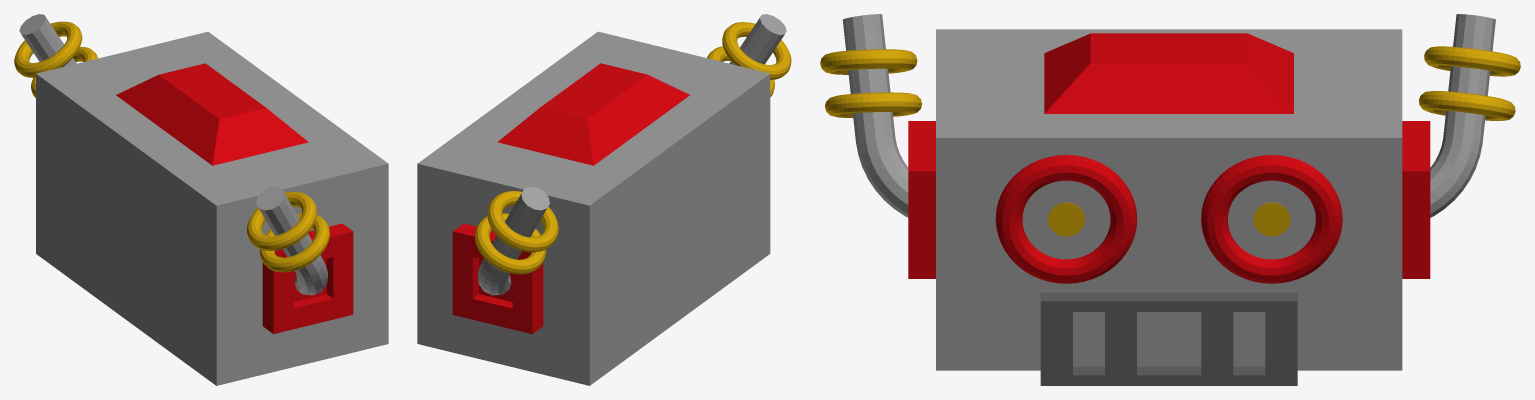
Rendered from robot.fbx.
3 renders of one model, left to right at view 1: azimuth 30°, elevation 25°; view 2: azimuth 150°, elevation 25°; view 3: azimuth 270°, elevation 25°, orthographic. The views are drawn at different scales.
Parts seen in each view (by area): view 1: Head, Cube.002, Cube.000, Torus.005, Torus.007, Torus.004, Torus.006, Torus.002, Torus.003; view 2: Head, Cube.002, Cube.001, Torus.002, Torus.004, Torus.007, Torus.003, Torus.005; view 3: Head, Cube.002, Cube, Torus, Torus.001, Torus.005, Torus.002, Cube.001, Cube.000, Torus.004, Torus.007, Torus.003 (+3 smaller).
Boxes of the visible parts, x1=… form: Head: x1=36, y1=31, x2=388, y2=385; Cube.002: x1=116, y1=63, x2=308, y2=165; Cube.000: x1=262, y1=223, x2=353, y2=333; Torus.005: x1=256, y1=186, x2=327, y2=295; Torus.007: x1=247, y1=191, x2=316, y2=250; Torus.004: x1=14, y1=21, x2=82, y2=77; Torus.006: x1=259, y1=213, x2=329, y2=272; Torus.002: x1=19, y1=14, x2=76, y2=66; Torus.003: x1=31, y1=46, x2=97, y2=97; Head: x1=417, y1=31, x2=770, y2=385; Cube.002: x1=497, y1=63, x2=689, y2=165; Cube.001: x1=452, y1=223, x2=543, y2=334; Torus.002: x1=478, y1=186, x2=549, y2=295; Torus.004: x1=487, y1=191, x2=558, y2=252; Torus.007: x1=722, y1=22, x2=791, y2=79; Torus.003: x1=475, y1=213, x2=545, y2=274; Torus.005: x1=729, y1=14, x2=786, y2=64; Head: x1=936, y1=29, x2=1402, y2=370; Cube.002: x1=1044, y1=33, x2=1293, y2=113; Cube: x1=1040, y1=292, x2=1297, y2=385; Torus: x1=1201, y1=155, x2=1342, y2=283; Torus.001: x1=995, y1=155, x2=1137, y2=283; Torus.005: x1=842, y1=14, x2=908, y2=217; Torus.002: x1=1430, y1=14, x2=1495, y2=217; Cube.001: x1=1402, y1=121, x2=1430, y2=278; Cube.000: x1=908, y1=121, x2=935, y2=278; Torus.004: x1=1424, y1=46, x2=1520, y2=76; Torus.007: x1=820, y1=49, x2=917, y2=74; Torus.003: x1=1418, y1=91, x2=1515, y2=120.
Size of the model in its own units: 2.16 by 2.57 by 5.46.
